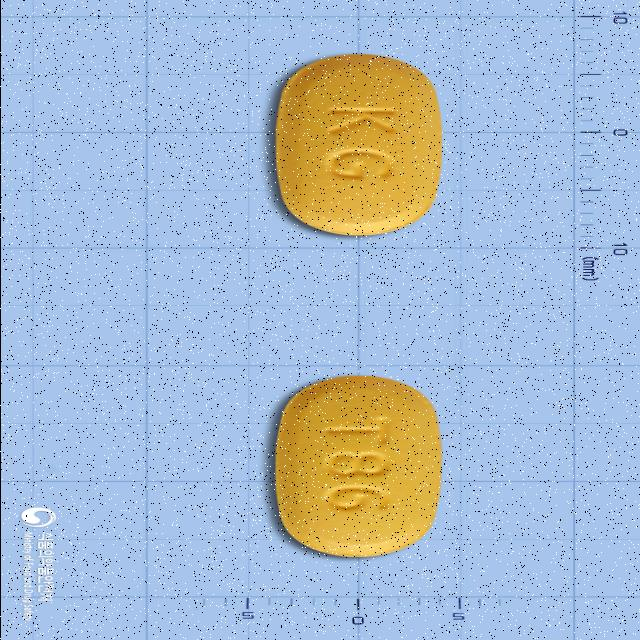Clarin: (266, 374, 446, 560), (268, 52, 446, 240)
